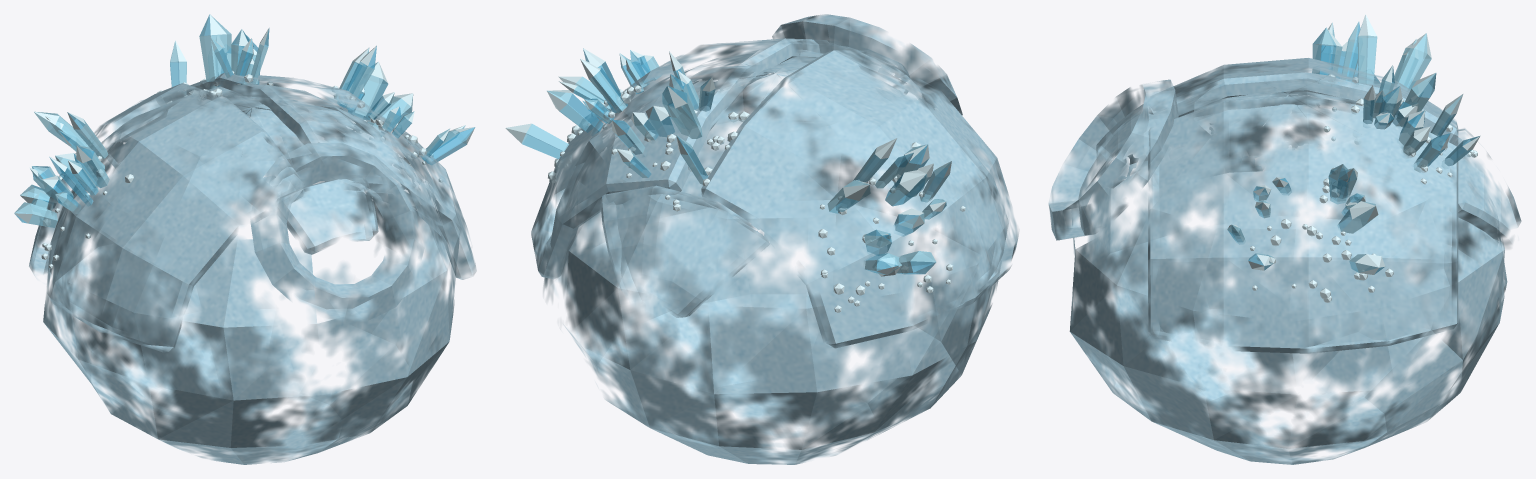
File: armored.glb
The picture shows the model from 3 angles, left to right: view 1: azimuth 30°, elevation 25°; view 2: azimuth 150°, elevation 25°; view 3: azimuth 270°, elevation 25°; orthographic projection. The views are drawn at different scales.
Visible parts, largest first — view 1: FrostCoat, AttachedIce; view 2: FrostCoat, AttachedIce; view 3: FrostCoat, AttachedIce.
Part boxes in pixels (box(x1,y1,x2,y2)): FrostCoat: box(29, 73, 476, 464); AttachedIce: box(14, 14, 475, 268); FrostCoat: box(531, 14, 1018, 464); AttachedIce: box(505, 48, 965, 312); FrostCoat: box(1048, 58, 1521, 464); AttachedIce: box(1227, 14, 1480, 302).
Size of the model in its own units: 1.06 by 0.9203 by 1.03.
Materials: 4 (1 with a texture image).
